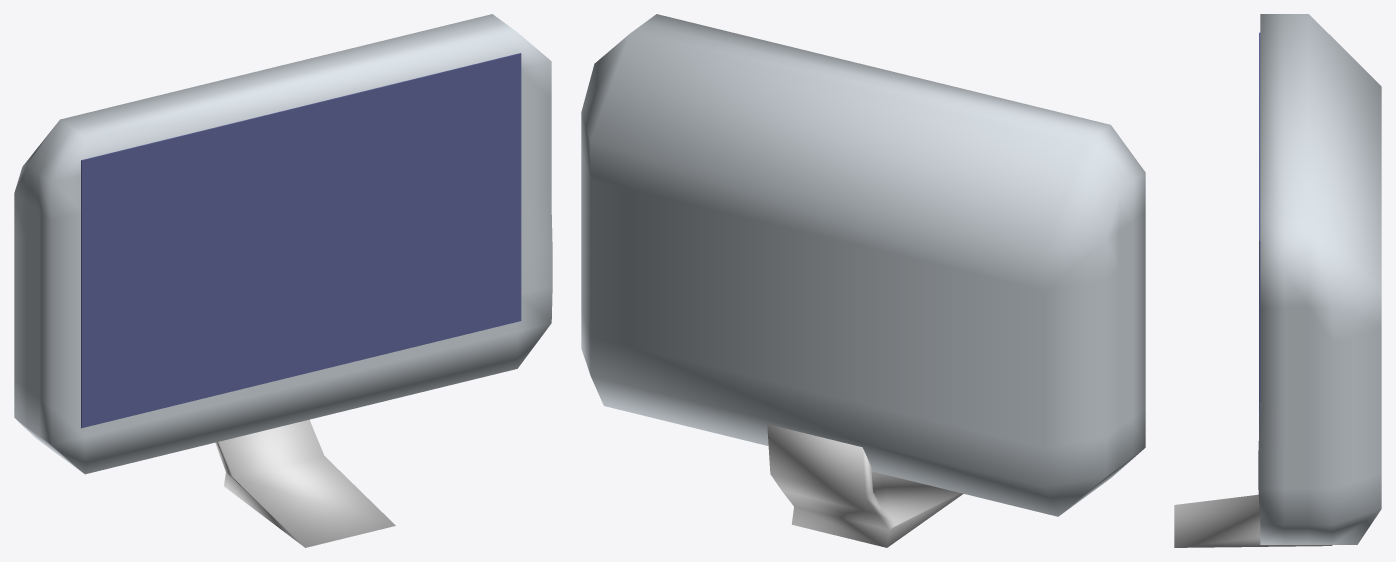
File: PoytakoneUV.fbx
3 views of the same model, side by side, from view 1: azimuth 30°, elevation 25°; view 2: azimuth 150°, elevation 25°; view 3: azimuth 270°, elevation 25° (orthographic). The views are drawn at different scales.
Parts seen in each view (by area): view 1: Cube.001, Cube, Cube.002; view 2: Cube, Cube.002; view 3: Cube, Cube.002, Cube.001.
Part boxes in pixels (box(x1,y1,x2,y2)): Cube.001: box(81, 53, 521, 428); Cube: box(14, 14, 552, 474); Cube.002: box(215, 419, 395, 547); Cube: box(581, 14, 1145, 516); Cube.002: box(767, 424, 963, 547); Cube: box(1258, 14, 1381, 544); Cube.002: box(1174, 494, 1332, 547); Cube.001: box(1259, 32, 1260, 430).
Bounding box in the file's own units: 391 × 314 × 145.
